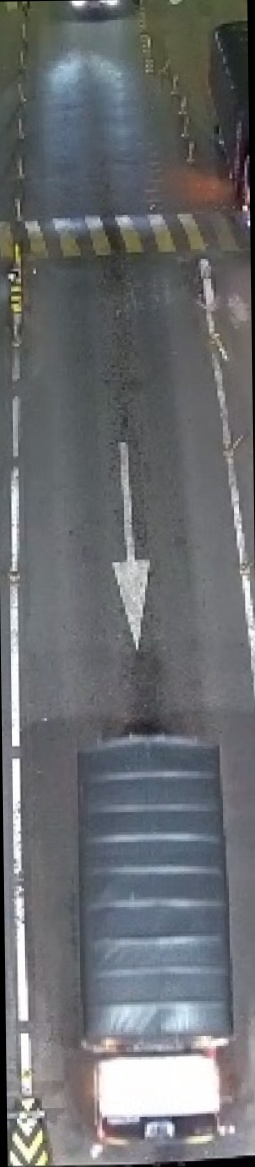truck: (68, 723, 248, 1155)
